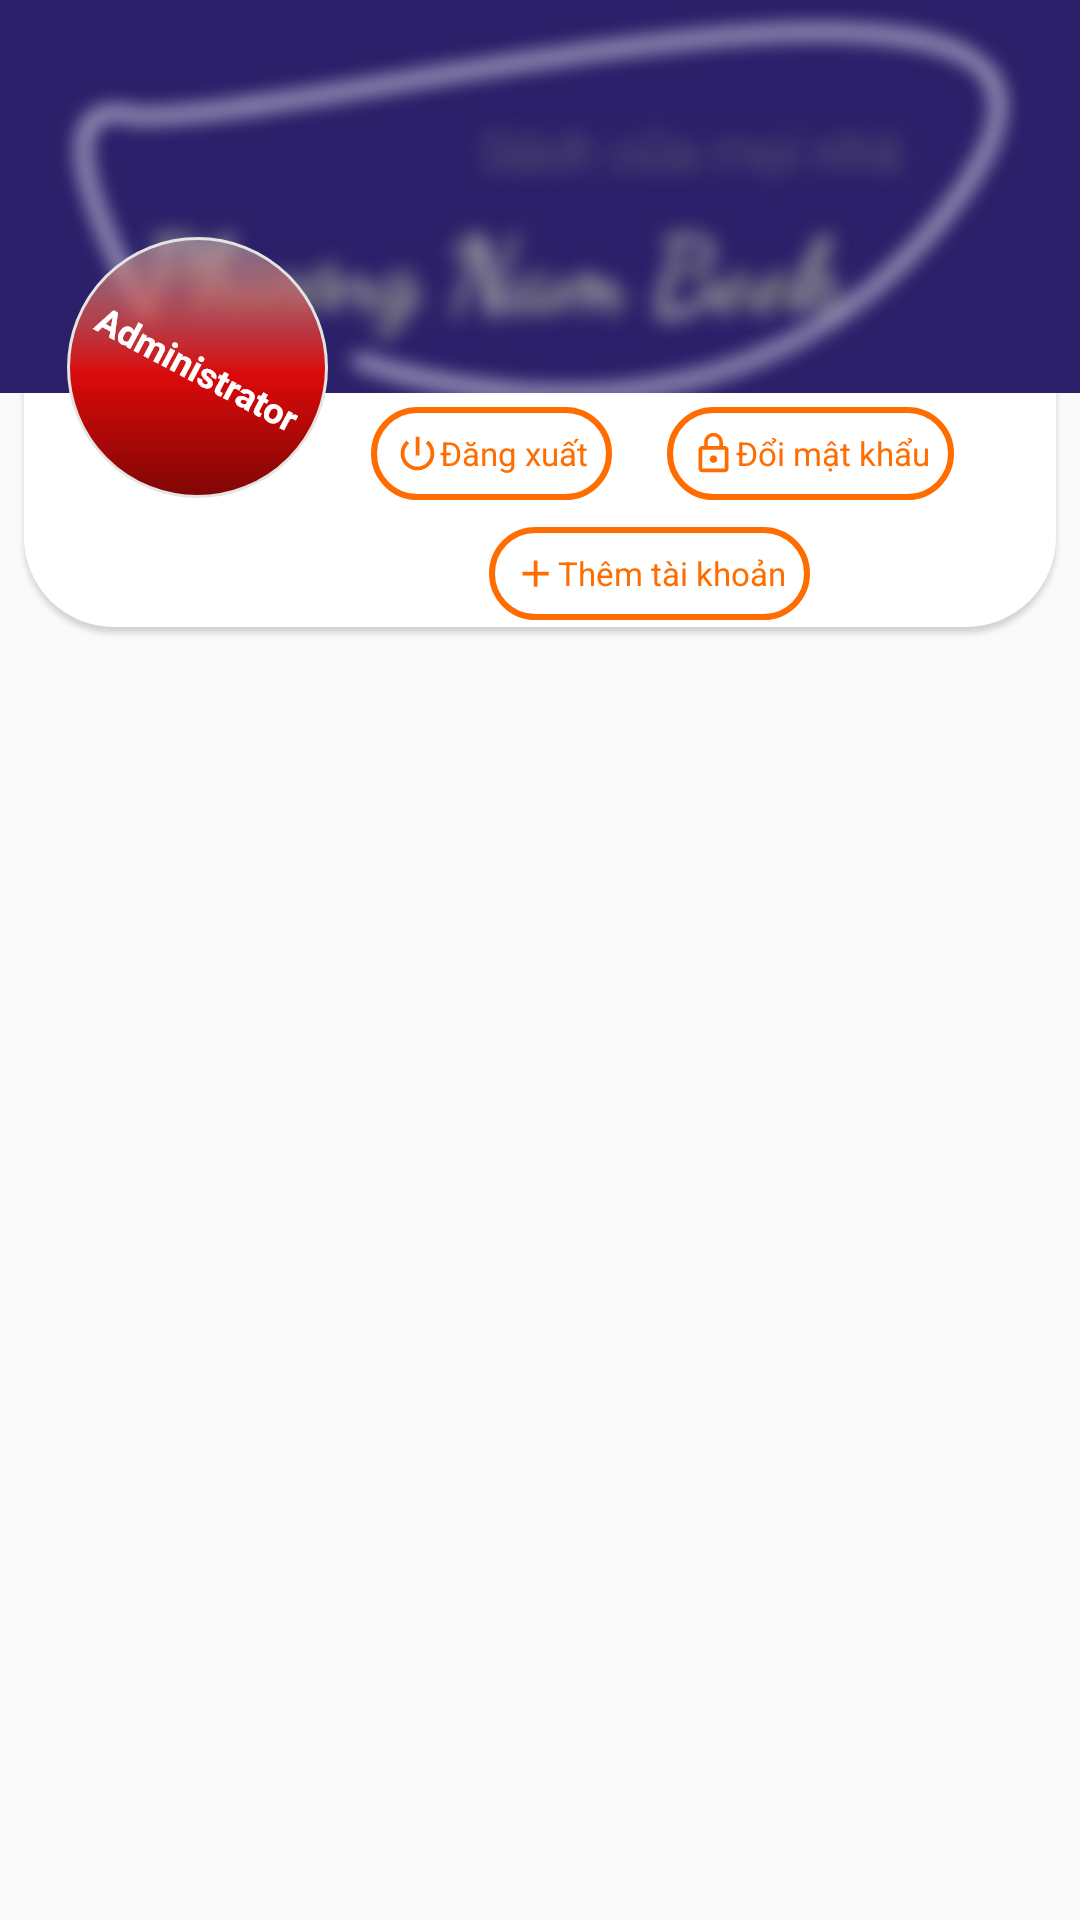

Icons on this 1080px×1920px Android screen, each with the point to tap as [x,y]:
add: [535,573]
lock: [713,453]
power settings: [417,453]
